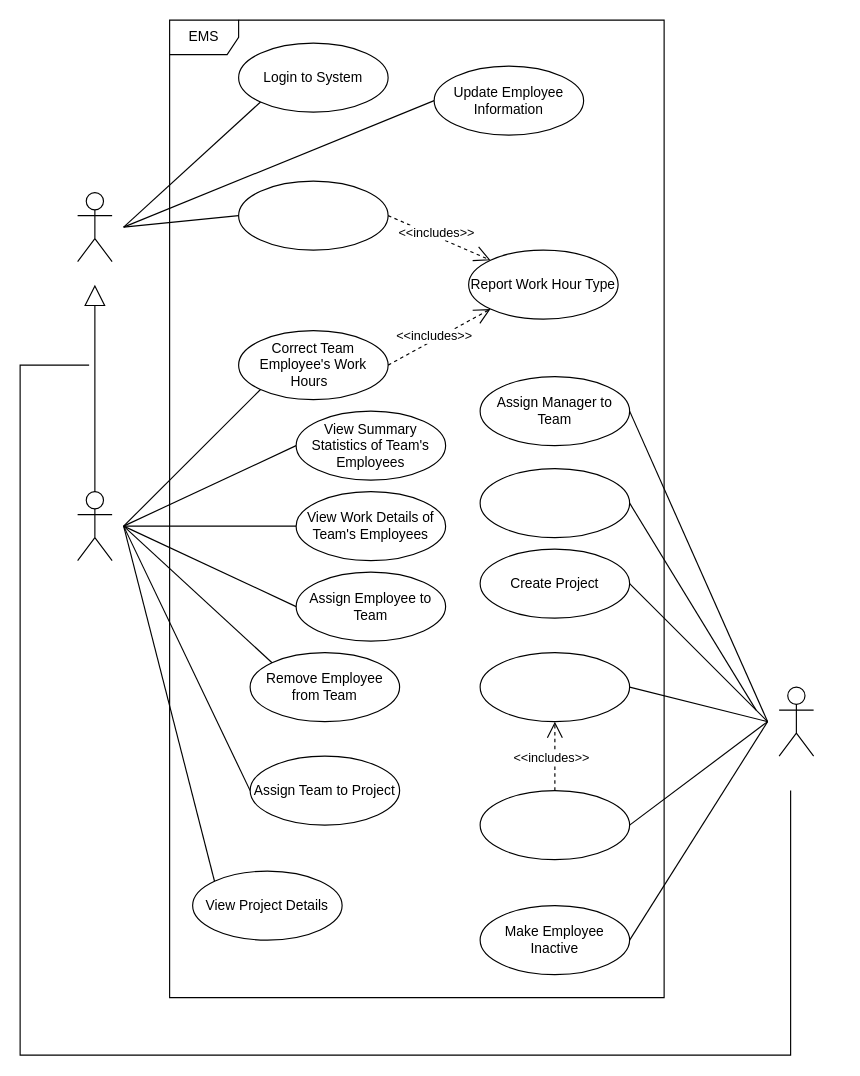
Some shapes in this 860 by 1076 pixel diagram are drawn without their labels. The centre of each missing label's shape, as x and y in pixels:
Create Team: point 554,502
Employee: point 94,226
Log Work Hours: point 312,215
Manager: point 94,525
Register employee: point 554,824
Set Employee Role: point 554,686
System Admin: point 796,721
